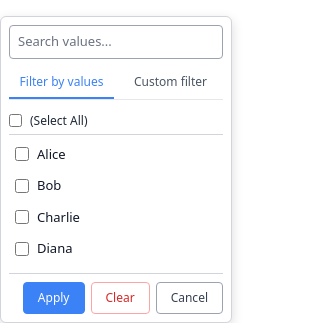
FilterDropdown › search filtering › shows empty state when search has no matches
The width and height of the screenshot is (320, 323).
(page scrolled)
Type "xyz123" into the field with test id "filter-search-input" at [116, 42], box [9, 25, 223, 58]
(page scrolled)
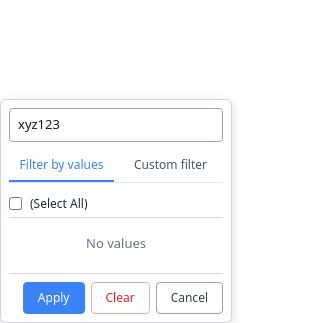
Now the text "No values" is shown, box [86, 234, 146, 252]
